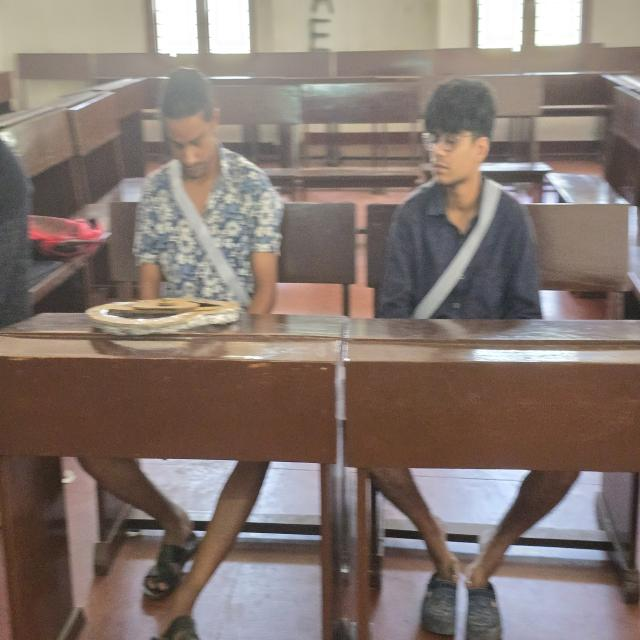seatbelt: (139, 172, 273, 310)
